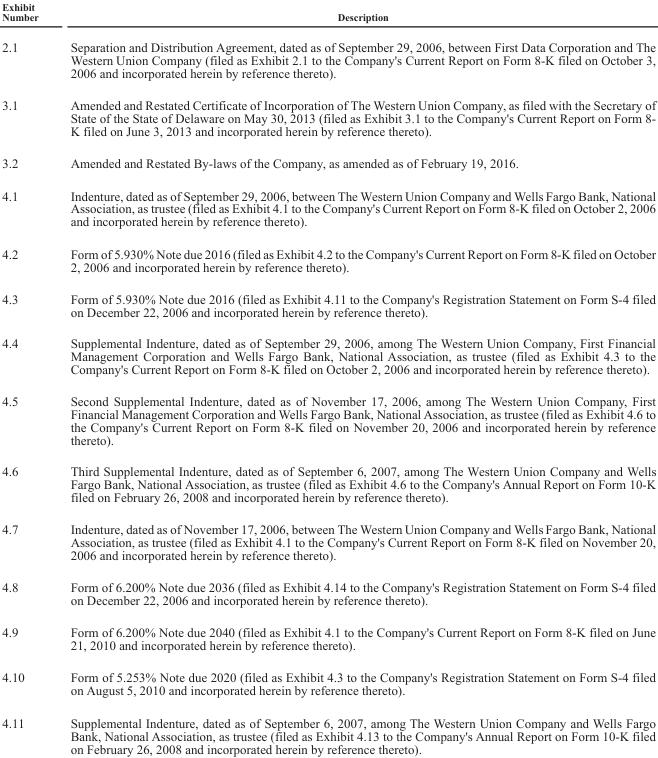table: (1, 0, 655, 755)
table column: (53, 0, 655, 755), (1, 0, 53, 755)
table column header: (1, 0, 655, 31)
table row: (1, 384, 655, 454), (1, 88, 655, 146), (1, 179, 655, 237), (1, 326, 655, 384), (1, 454, 655, 512), (1, 512, 655, 570), (1, 31, 655, 88), (1, 706, 655, 755), (1, 660, 655, 706), (1, 237, 655, 282), (1, 570, 655, 615), (1, 615, 655, 660), (1, 282, 655, 326), (1, 146, 655, 179), (1, 0, 655, 31)
